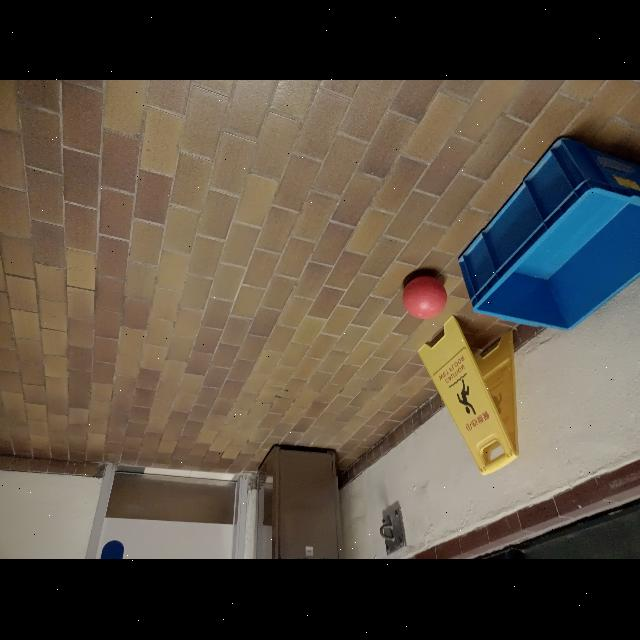R: (402, 270, 448, 324)
